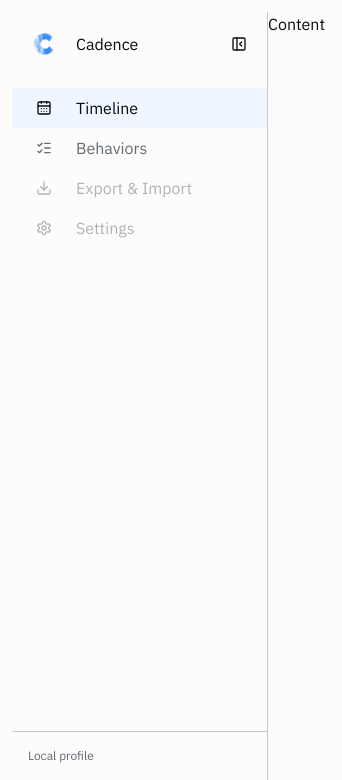
Test case: desktop preference and dialog side effects › persists the rail preference and still toggles when storage fails
Step 1. Click the button named "Collapse navigation" → (239, 44), box [219,24,259,64]
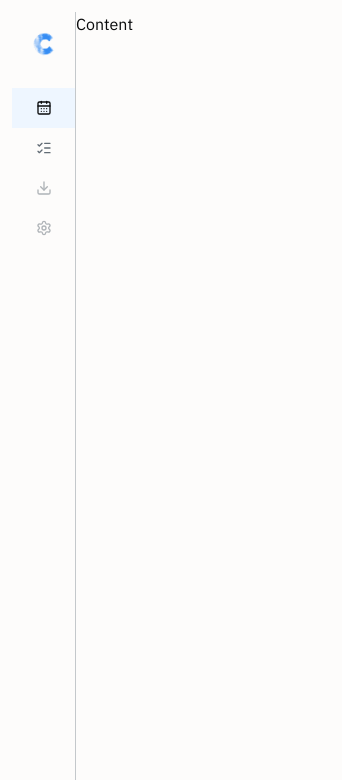
Now the button named "Expand navigation" is shown
Step 2. Click the button named "Expand navigation" → (44, 44), box [12,12,76,76]
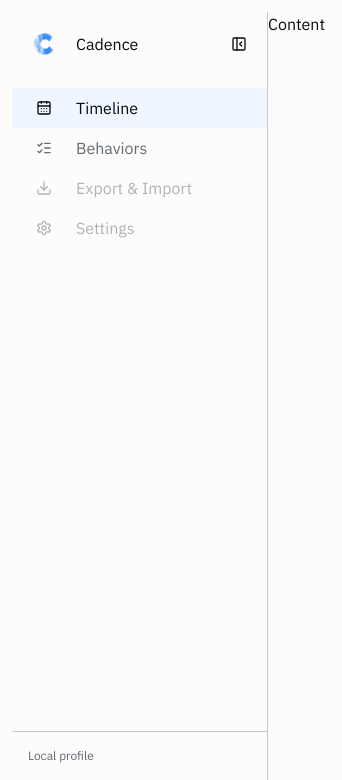
Now the button named "Collapse navigation" is shown, box [219,24,259,64]
